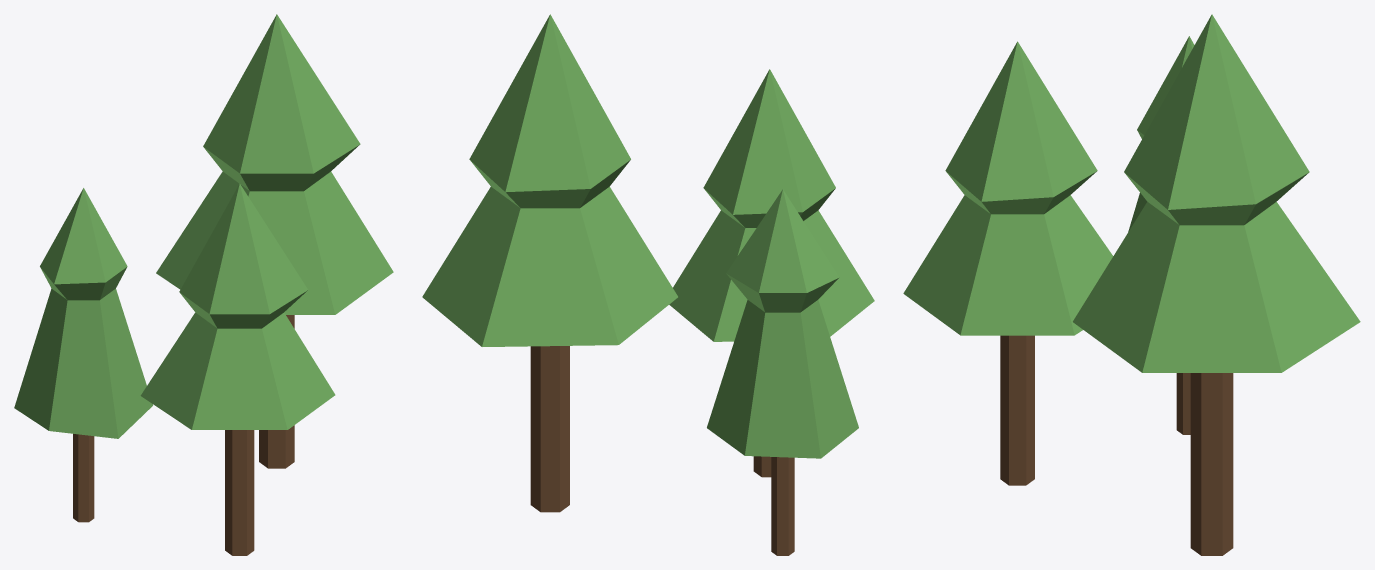
File: Environment_Objects_Tree_03.fbx
The picture shows the model from 3 angles, left to right: view 1: azimuth 30°, elevation 25°; view 2: azimuth 150°, elevation 25°; view 3: azimuth 270°, elevation 25°; orthographic projection. The views are drawn at different scales.
Parts seen in each view (by area): view 1: Environment_Objects_Tree_03; view 2: Environment_Objects_Tree_03; view 3: Environment_Objects_Tree_03.
Boxes of the visible parts, left/top/right/bottom form: Environment_Objects_Tree_03: left=14, top=14, right=393, bottom=555; Environment_Objects_Tree_03: left=422, top=14, right=874, bottom=555; Environment_Objects_Tree_03: left=903, top=14, right=1360, bottom=555.
Bounding box in the file's own units: 430 × 538 × 417.
